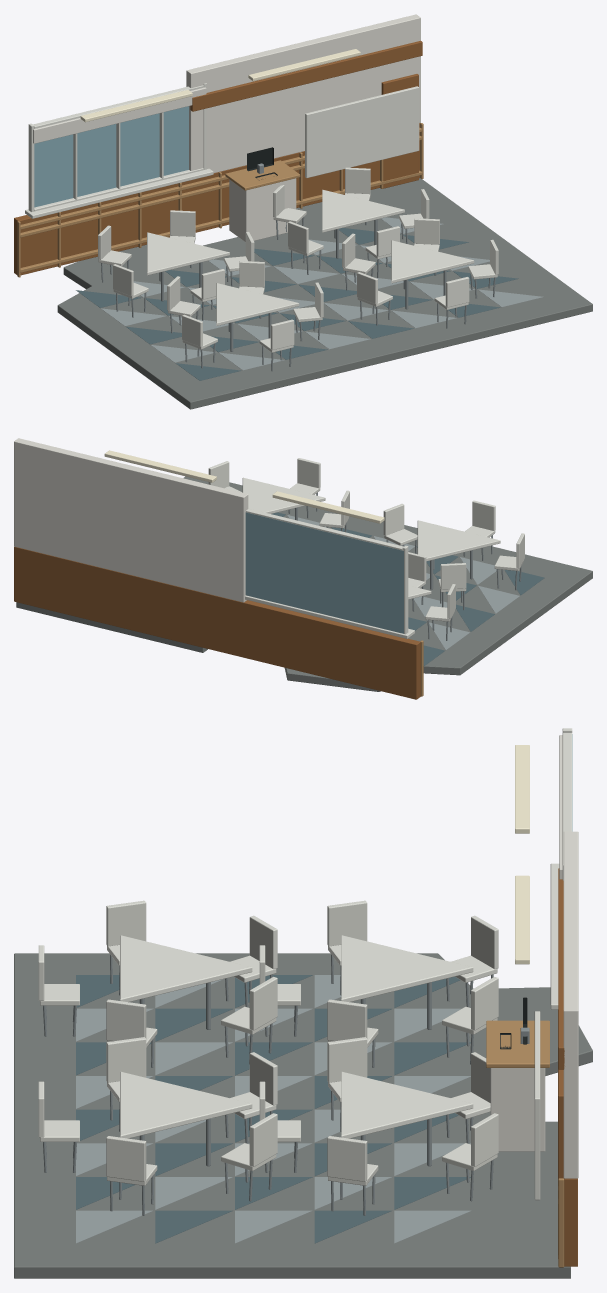
Rendered from clm-interior-18441fed03f8.glb.
3 renders of one model, top to bottom at view 1: azimuth 30°, elevation 25°; view 2: azimuth 150°, elevation 25°; view 3: azimuth 270°, elevation 25°, orthographic. The views are drawn at different scales.
Visible parts, largest first — view 1: CLM.001; view 2: CLM.001; view 3: CLM.001.
Boxes of the visible parts, x1=… form: CLM.001: x1=14, y1=14, x2=592, y2=409; CLM.001: x1=14, y1=438, x2=592, y2=699; CLM.001: x1=14, y1=728, x2=592, y2=1278.
Size of the model in its own units: 8.44 by 3.35 by 6.55.
